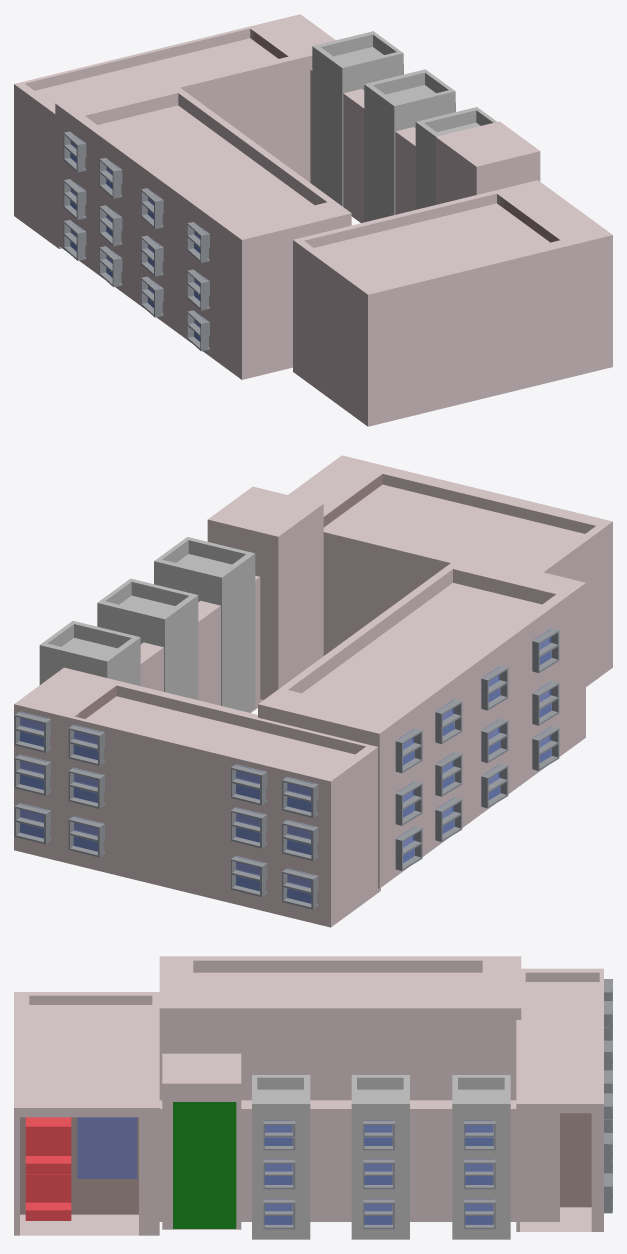
File: training&placement.glb
3 views of the same model, one above another, from view 1: azimuth 30°, elevation 25°; view 2: azimuth 150°, elevation 25°; view 3: azimuth 270°, elevation 25° (orthographic). The views are drawn at different scales.
Visible parts, largest first — view 1: Cube, Cube.017, Cube.014, Cube.013, Cube.009, Cube.004, Cube.003, Cube.005, Plane.014, Plane.018, Plane.010, Plane.009 (+8 smaller); view 2: Cube.014, Cube.017, Cube, Cube.004, Cube.005, Cube.009, Cube.013, Cube.003, Plane.021, Plane.026, Plane.023, Plane.022 (+20 smaller); view 3: Cube.017, Cube, Cube.014, Cube.003, Plane.002, Cube.013, Cube.005, Cube.009, Cube.004, Plane.001, Cube.001, Cube.002 (+14 smaller).
Boxes of the visible parts, x1,y1,x2,y2 form: Cube: (293, 180, 612, 426); Cube.017: (55, 77, 351, 379); Cube.014: (14, 14, 335, 248); Cube.013: (312, 31, 403, 206); Cube.009: (364, 69, 455, 222); Cube.004: (435, 121, 540, 204); Cube.003: (310, 69, 415, 222); Cube.005: (415, 107, 496, 209); Plane.014: (99, 205, 122, 246); Plane.018: (99, 246, 122, 287); Plane.010: (99, 157, 122, 198); Plane.009: (63, 131, 86, 172); Cube.014: (14, 667, 380, 927); Cube.017: (258, 553, 585, 888); Cube: (288, 455, 612, 686); Cube.004: (207, 486, 323, 699); Cube.005: (154, 537, 255, 712); Cube.009: (97, 578, 198, 699); Cube.013: (39, 621, 140, 685); Cube.003: (140, 575, 263, 712); Plane.021: (14, 711, 50, 752); Plane.026: (68, 816, 104, 857); Plane.023: (14, 803, 50, 844); Plane.022: (14, 754, 50, 795); Cube.017: (159, 956, 521, 1100); Cube: (14, 992, 159, 1235); Cube.014: (516, 968, 603, 1231); Cube.003: (159, 1100, 559, 1221); Plane.002: (173, 1102, 236, 1228); Cube.013: (452, 1075, 510, 1239); Cube.005: (252, 1075, 310, 1239); Cube.009: (351, 1075, 409, 1239); Cube.004: (162, 1053, 241, 1229); Plane.001: (77, 1117, 137, 1178); Cube.001: (25, 1117, 71, 1174); Cube.002: (25, 1175, 71, 1220).
Bounding box in the file's own units: 22.7 × 10.53 × 37.12.
